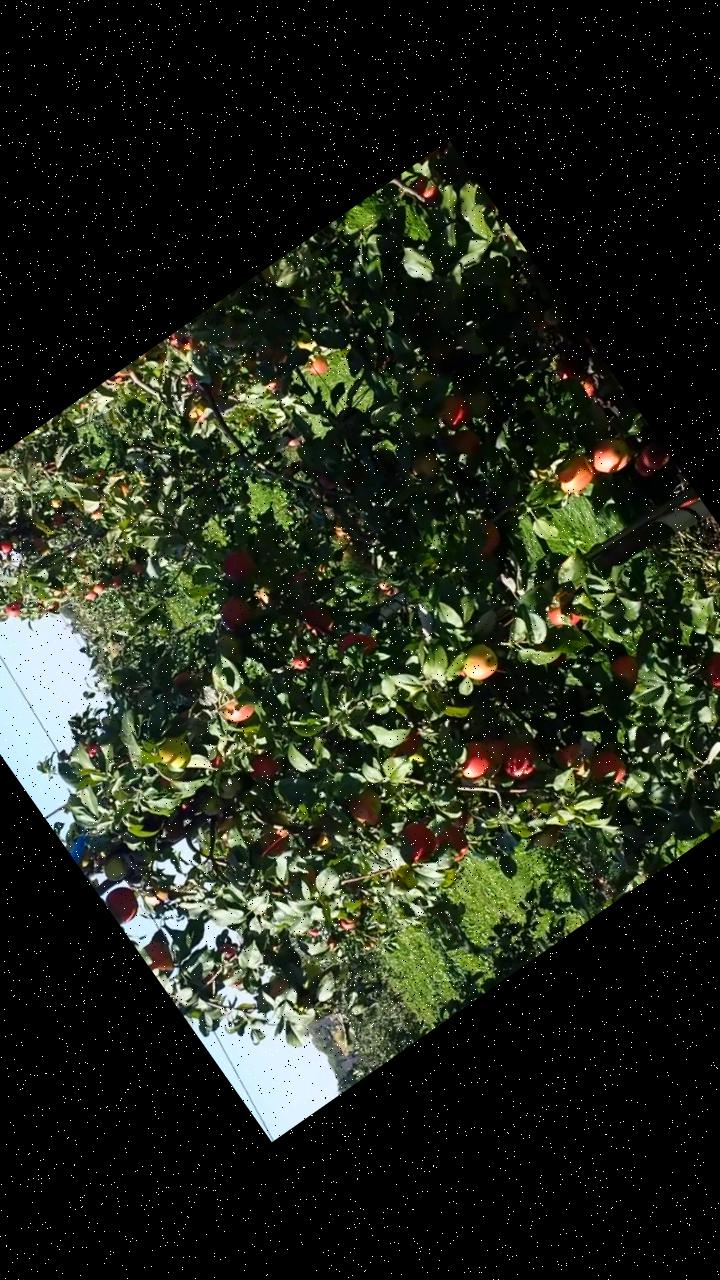Apple: (546, 448, 603, 502), (391, 814, 444, 869), (492, 733, 544, 785), (584, 430, 636, 481), (332, 619, 383, 669), (446, 734, 497, 784), (149, 728, 199, 778), (342, 783, 391, 832), (550, 737, 598, 785), (584, 744, 632, 792), (456, 636, 503, 684), (539, 588, 586, 636), (430, 819, 476, 868), (214, 540, 260, 588), (138, 934, 182, 981), (100, 881, 144, 927), (463, 516, 509, 560), (441, 422, 487, 466), (432, 387, 476, 432), (212, 590, 256, 634), (468, 729, 512, 772), (384, 724, 428, 766), (296, 598, 338, 642), (252, 819, 296, 860), (404, 446, 446, 486), (406, 167, 446, 209), (696, 634, 719, 707), (608, 650, 648, 691), (216, 689, 256, 728), (241, 748, 282, 786), (96, 850, 130, 885), (166, 326, 198, 359), (528, 822, 562, 852), (194, 790, 226, 820), (140, 880, 170, 910), (302, 350, 332, 380), (250, 581, 279, 612), (183, 399, 212, 430), (262, 972, 290, 999), (285, 561, 313, 586), (312, 466, 338, 492), (169, 665, 194, 689), (450, 808, 475, 832), (308, 828, 332, 852), (216, 936, 238, 960), (334, 912, 358, 934), (262, 372, 284, 394), (110, 366, 132, 386), (82, 740, 102, 759), (302, 922, 322, 941), (182, 370, 200, 390), (155, 771, 171, 790), (207, 752, 224, 768), (228, 977, 243, 990), (456, 666, 468, 680)
